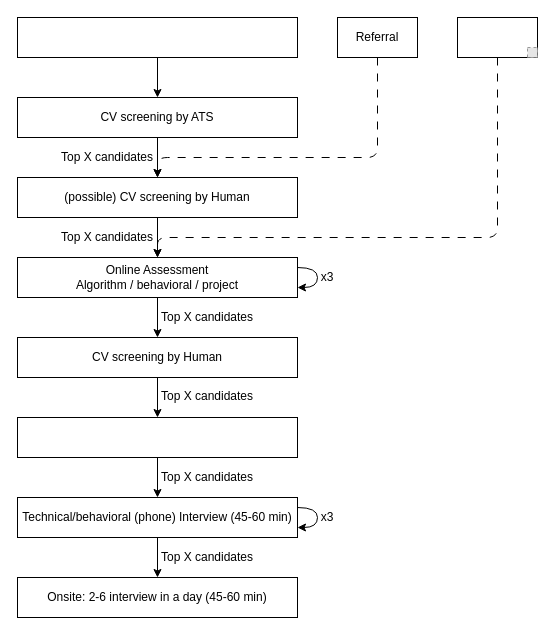
Image size: 555x635. Some labels were removed from this diagram. Grey dashed boxes stand in for pictures. Each missing label, with the centre of its shape:
HR contact: (x=497, y=37)
Insert your CV on company website (tedious ~15m): (x=157, y=37)
Short Introduction with HR (10-15 min): (x=157, y=437)
